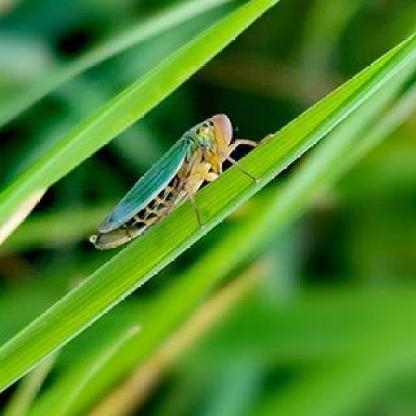green-leafhopper: (88, 110, 274, 254)
